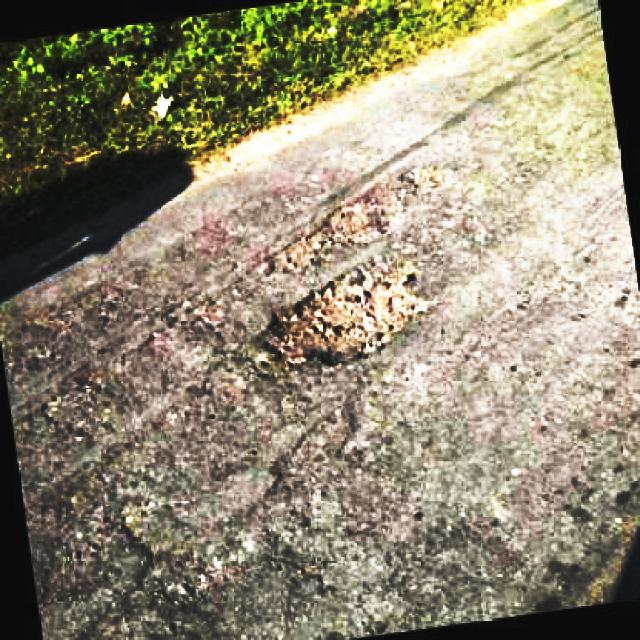pothole: (256, 246, 442, 374), (258, 161, 457, 277)
